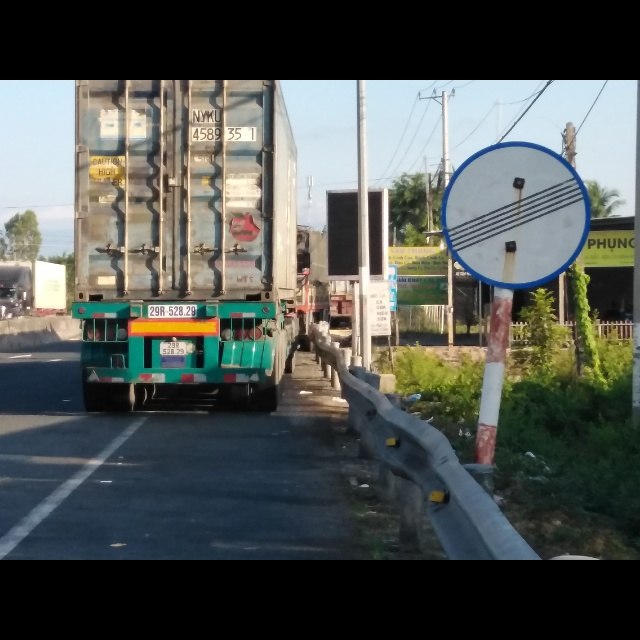Hết tất cả các lệnh cấm: (438, 139, 597, 291)
